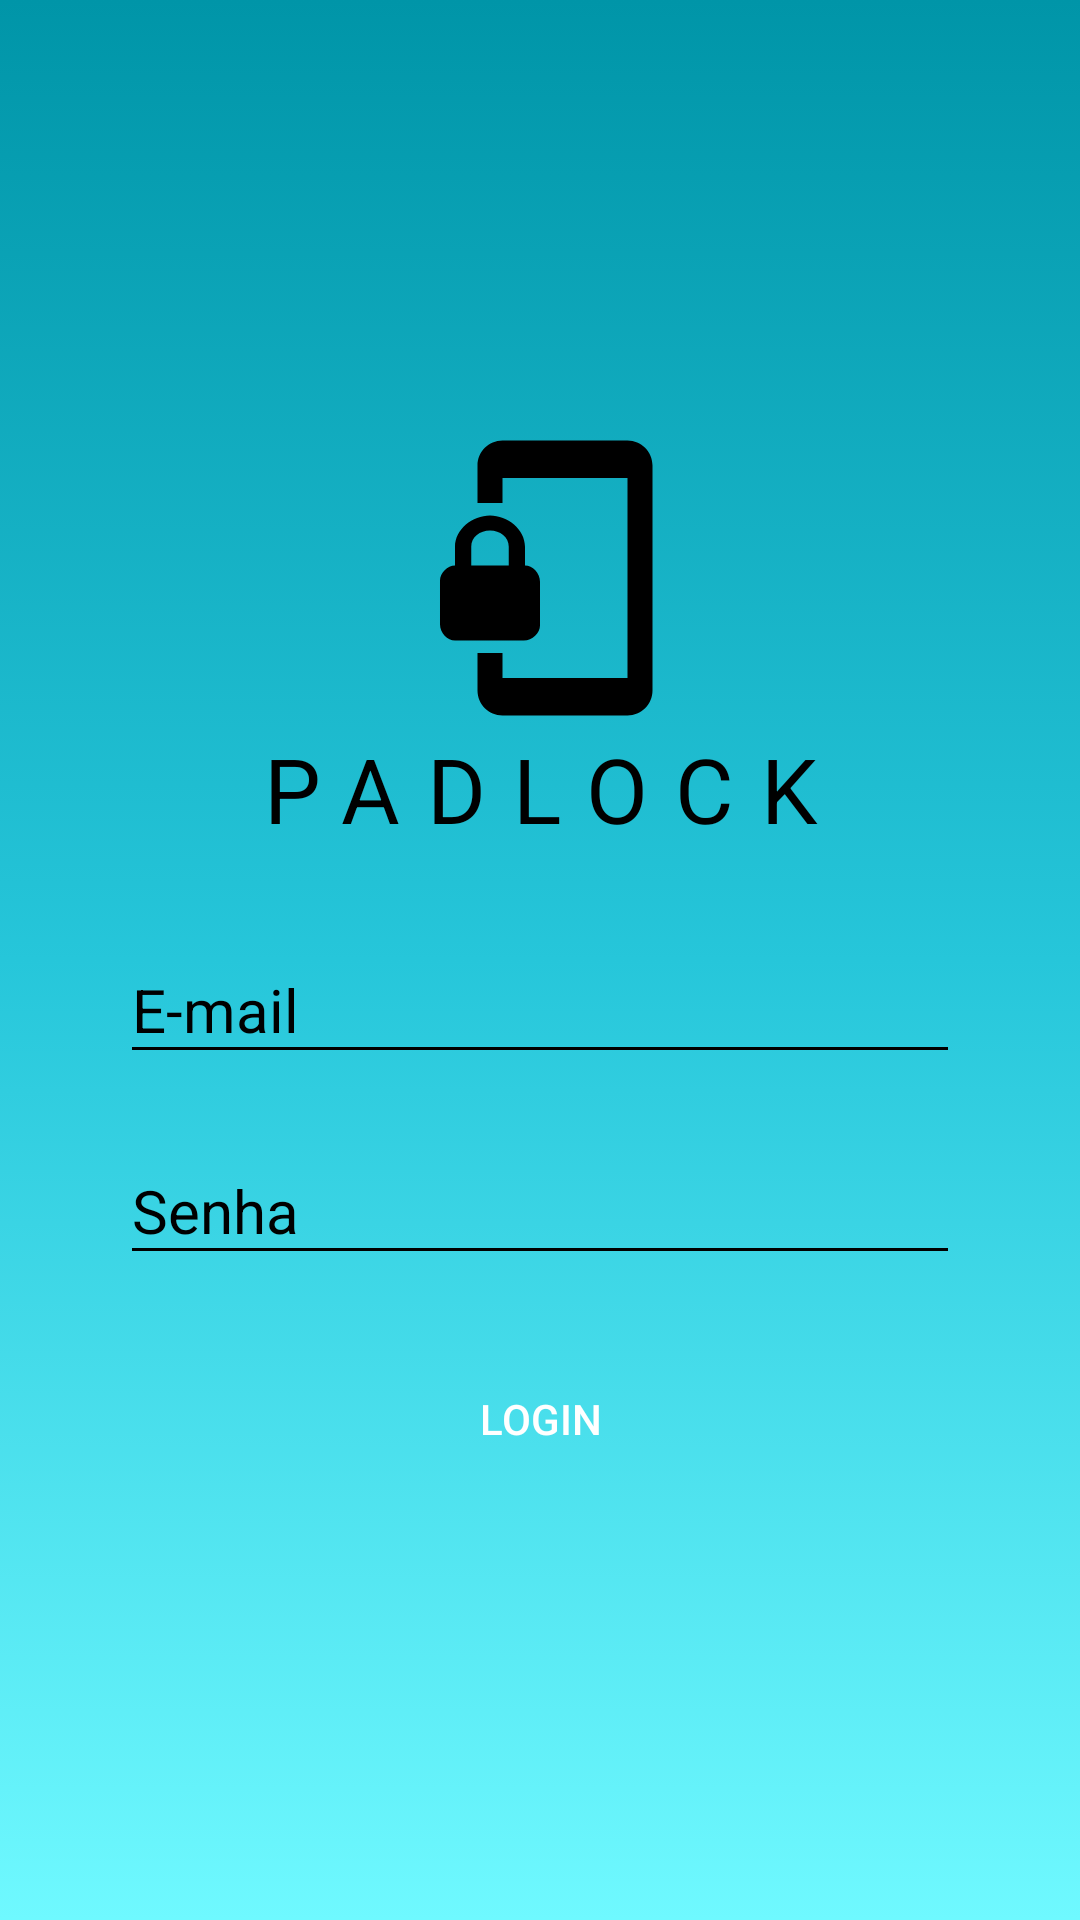

Where icons sit on this 1080px x 1920px app screen, as box(x1, y1, x2, y2):
phone lock: box(440, 440, 653, 716)
